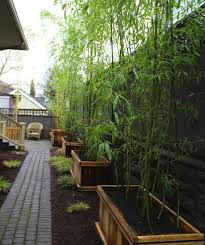bamboo: (113, 66, 195, 221), (51, 2, 204, 63), (48, 64, 108, 136)
